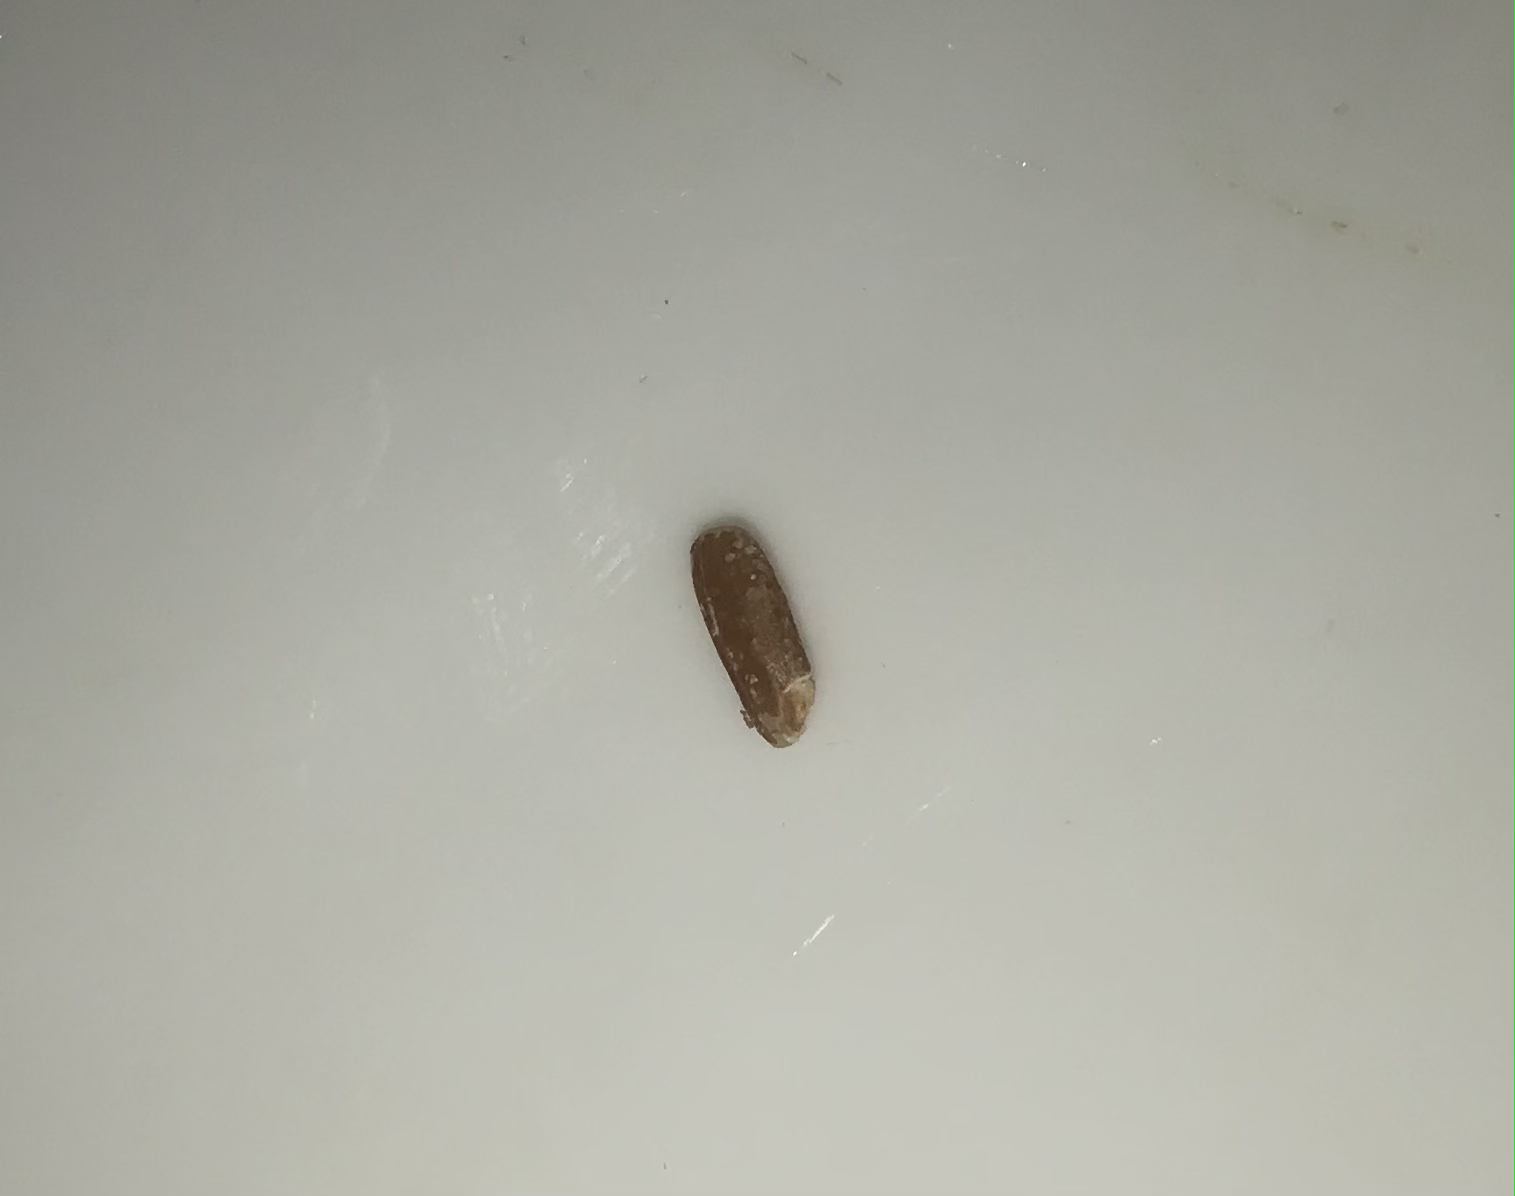Gao Lut Do: (664, 500, 846, 755)
